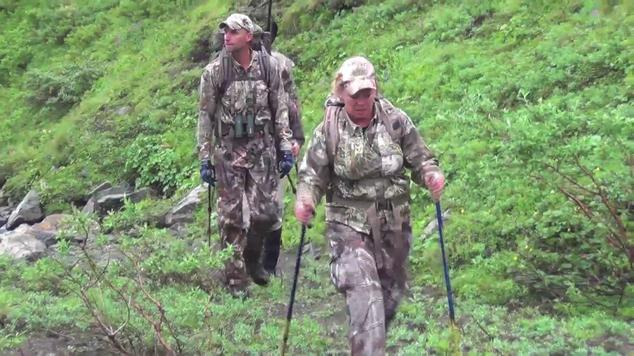sit: (201, 27, 286, 267)
